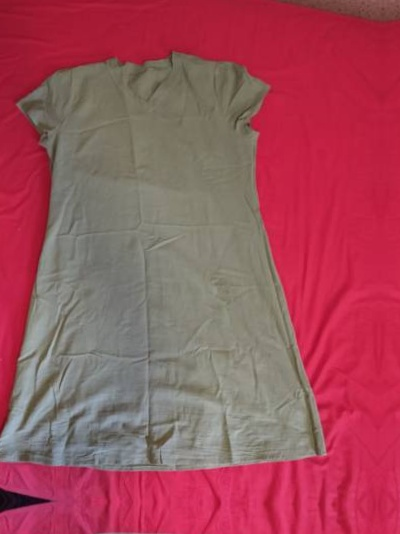Dress: (0, 25, 315, 488), (0, 517, 309, 534)
